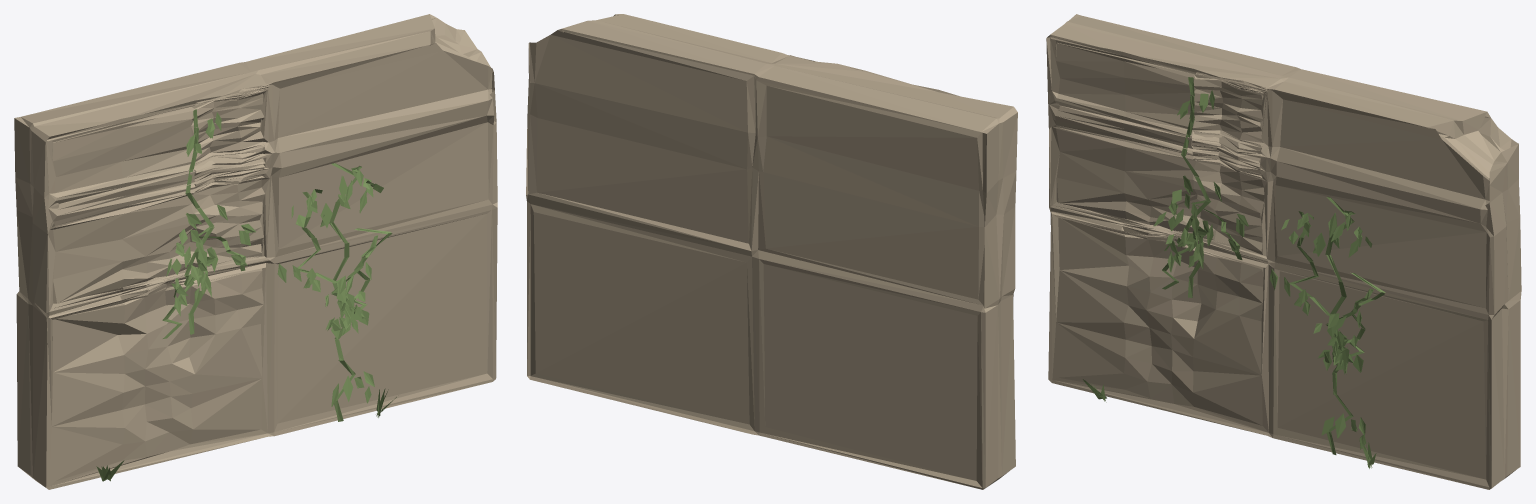
Rendered from SM_Wall_B.fbx.
The picture shows the model from 3 angles, left to right: view 1: azimuth 30°, elevation 25°; view 2: azimuth 150°, elevation 25°; view 3: azimuth 330°, elevation 25°; orthographic projection. The views are drawn at different scales.
Parts seen in each view (by area): view 1: SM_Wall_B; view 2: SM_Wall_B; view 3: SM_Wall_B.
Part boxes in pixels (x1,y1,x2,y2): SM_Wall_B: (14,14,497,489); SM_Wall_B: (526,14,1017,489); SM_Wall_B: (1046,14,1521,489).
Size of the model in its own units: 4.04 by 3.07 by 0.6588.
